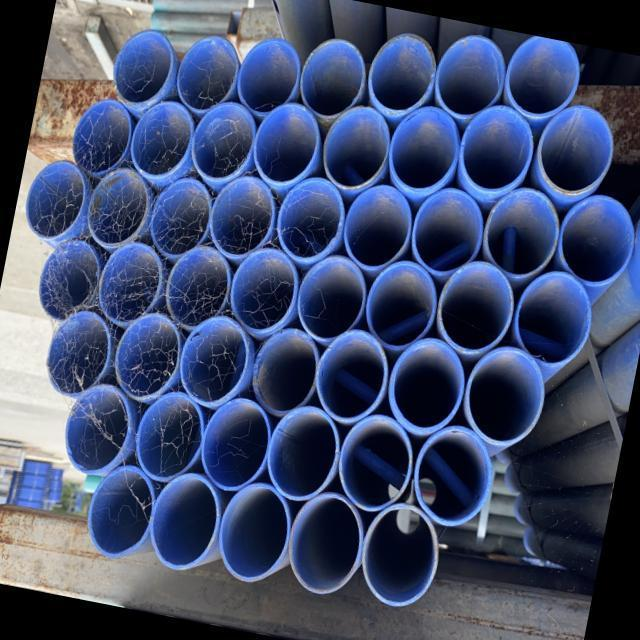pipe: (352, 496, 450, 609), (456, 342, 557, 451), (206, 471, 300, 586), (382, 326, 475, 438), (140, 462, 230, 577), (279, 484, 366, 602), (405, 421, 500, 528), (256, 396, 346, 508), (330, 404, 420, 515), (305, 323, 397, 427), (529, 95, 621, 199), (360, 250, 450, 355), (433, 253, 521, 358), (480, 184, 568, 287), (510, 265, 600, 365), (171, 306, 259, 408), (58, 381, 144, 484), (242, 318, 326, 422), (554, 188, 640, 287), (269, 169, 355, 268), (403, 184, 491, 280), (104, 301, 185, 405), (190, 392, 274, 489), (382, 102, 468, 196), (89, 234, 171, 332), (76, 156, 158, 254), (454, 101, 540, 194), (335, 180, 418, 274), (78, 456, 154, 558), (292, 31, 374, 125), (296, 248, 374, 345), (318, 97, 396, 194), (46, 301, 120, 403), (430, 28, 510, 121), (134, 384, 208, 484), (226, 242, 306, 334), (202, 173, 283, 263), (500, 32, 581, 122), (248, 100, 330, 188), (184, 94, 260, 188), (123, 94, 197, 188), (230, 28, 308, 117), (160, 242, 240, 328), (144, 170, 217, 260), (366, 24, 438, 114), (170, 26, 240, 114), (35, 234, 104, 323), (22, 157, 88, 240), (75, 94, 138, 178), (110, 28, 174, 104)
